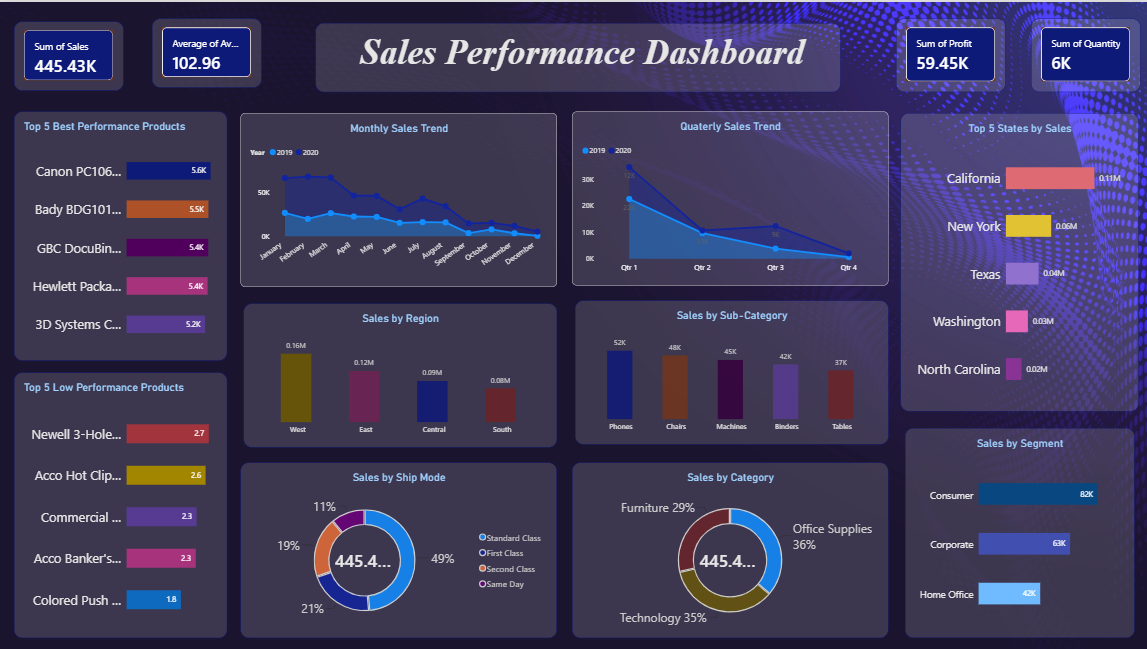

The dashboard page shown, as its layout file describes it:
{"tool":"powerbi","page":{"name":"Page 1","canvas":[1920,1080],"ordinal":0},"visuals":[{"type":"clusteredBarChart","title":"Sales by Segment","fields":{"Category":["SuperStore_Sales_Dataset.Segment"],"Y":["Sum(SuperStore_Sales_Dataset.Sales)"]},"box":[1510,710,382.5,350],"z":0},{"type":"clusteredBarChart","title":"Top 5 States by Sales","fields":{"Category":["SuperStore_Sales_Dataset.State"],"Y":["Sum(SuperStore_Sales_Dataset.Sales)"]},"box":[1502.5,185,397.5,497.5],"z":1000},{"type":"stackedAreaChart","title":"Quaterly Sales Trend","fields":{"Category":["SuperStore_Sales_Dataset.Order Date.Variation.Date Hierarchy.Quarter"],"Series":["SuperStore_Sales_Dataset.Order Date.Variation.Date Hierarchy.Year"],"Y":["Sum(SuperStore_Sales_Dataset.Profit)"]},"box":[955,182.5,527.5,290],"z":2000},{"type":"stackedAreaChart","title":"Monthly Sales Trend","fields":{"Category":["SuperStore_Sales_Dataset.Order Date.Variation.Date Hierarchy.Month"],"Series":["SuperStore_Sales_Dataset.Order Date.Variation.Date Hierarchy.Year"],"Y":["Sum(SuperStore_Sales_Dataset.Sales)"]},"box":[402.5,185,527.5,290],"z":3000},{"type":"donutChart","title":"Sales by Category","fields":{"Category":["SuperStore_Sales_Dataset.Category"],"Y":["Sum(SuperStore_Sales_Dataset.Sales)"]},"box":[955,767.5,527.5,292.5],"z":4000},{"type":"donutChart","title":"Sales by Ship Mode","fields":{"Category":["SuperStore_Sales_Dataset.Ship Mode"],"Y":["Sum(SuperStore_Sales_Dataset.Sales)"]},"box":[402.5,767.5,527.5,292.5],"z":5000},{"type":"textbox","box":[527.5,35,875,115],"z":6000},{"type":"cardVisual","fields":{"Data":["Sum(SuperStore_Sales_Dataset.Sales)"]},"box":[25,32.5,182.5,115],"z":7000},{"type":"cardVisual","fields":{"Data":["Sum(SuperStore_Sales_Dataset.Quantity)"]},"box":[1720,27.5,182.5,122.5],"z":8000},{"type":"cardVisual","fields":{"Data":["Sum(SuperStore_Sales_Dataset.Profit)"]},"box":[1495,27.5,182.5,122.5],"z":9000},{"type":"cardVisual","fields":{"Data":["Avg(SuperStore_Sales_Dataset.AvgDelivery)"]},"box":[255,27.5,182.5,115],"z":10000},{"type":"columnChart","title":"Sales by Region","fields":{"Category":["SuperStore_Sales_Dataset.Region"],"Y":["Sum(SuperStore_Sales_Dataset.Sales)"]},"box":[407.5,502.5,522.5,240],"z":11000},{"type":"clusteredBarChart","title":"Top 5 Best Performance Products","fields":{"Category":["Product Name.Product Name"],"Y":["Sum(Product Name.Total Sales)"]},"box":[25,182.5,355,415],"z":12000},{"type":"clusteredBarChart","title":"Top 5 Low Performance Products","fields":{"Category":["Product Name.Product Name"],"Y":["Sum(Product Name.Total Sales)"]},"box":[25,617.5,355,442.5],"z":13000},{"type":"columnChart","title":"Sales by Sub-Category","fields":{"Category":["SuperStore_Sales_Dataset.Sub-Category"],"Y":["Sum(SuperStore_Sales_Dataset.Sales)"]},"box":[960,497.5,522.5,240],"z":14001}]}

Visuals, with their boxes in screenshot pixels (x1, y1, x2, y2), scaled from the page's 1920x1080 canvas onto the 1147x649 screenshot:
"Sales by Segment" clusteredBarChart: [902, 427, 1131, 637]
"Top 5 States by Sales" clusteredBarChart: [898, 111, 1135, 410]
"Quaterly Sales Trend" stackedAreaChart: [571, 110, 886, 284]
"Monthly Sales Trend" stackedAreaChart: [240, 111, 556, 285]
"Sales by Category" donutChart: [571, 461, 886, 637]
"Sales by Ship Mode" donutChart: [240, 461, 556, 637]
textbox: [315, 21, 838, 90]
cardVisual - Sum(SuperStore_Sales_Dataset.Sales): [15, 20, 124, 89]
cardVisual - Sum(SuperStore_Sales_Dataset.Quantity): [1028, 17, 1137, 90]
cardVisual - Sum(SuperStore_Sales_Dataset.Profit): [893, 17, 1002, 90]
cardVisual - Avg(SuperStore_Sales_Dataset.AvgDelivery): [152, 17, 261, 86]
"Sales by Region" columnChart: [243, 302, 556, 446]
"Top 5 Best Performance Products" clusteredBarChart: [15, 110, 227, 359]
"Top 5 Low Performance Products" clusteredBarChart: [15, 371, 227, 637]
"Sales by Sub-Category" columnChart: [574, 299, 886, 443]
